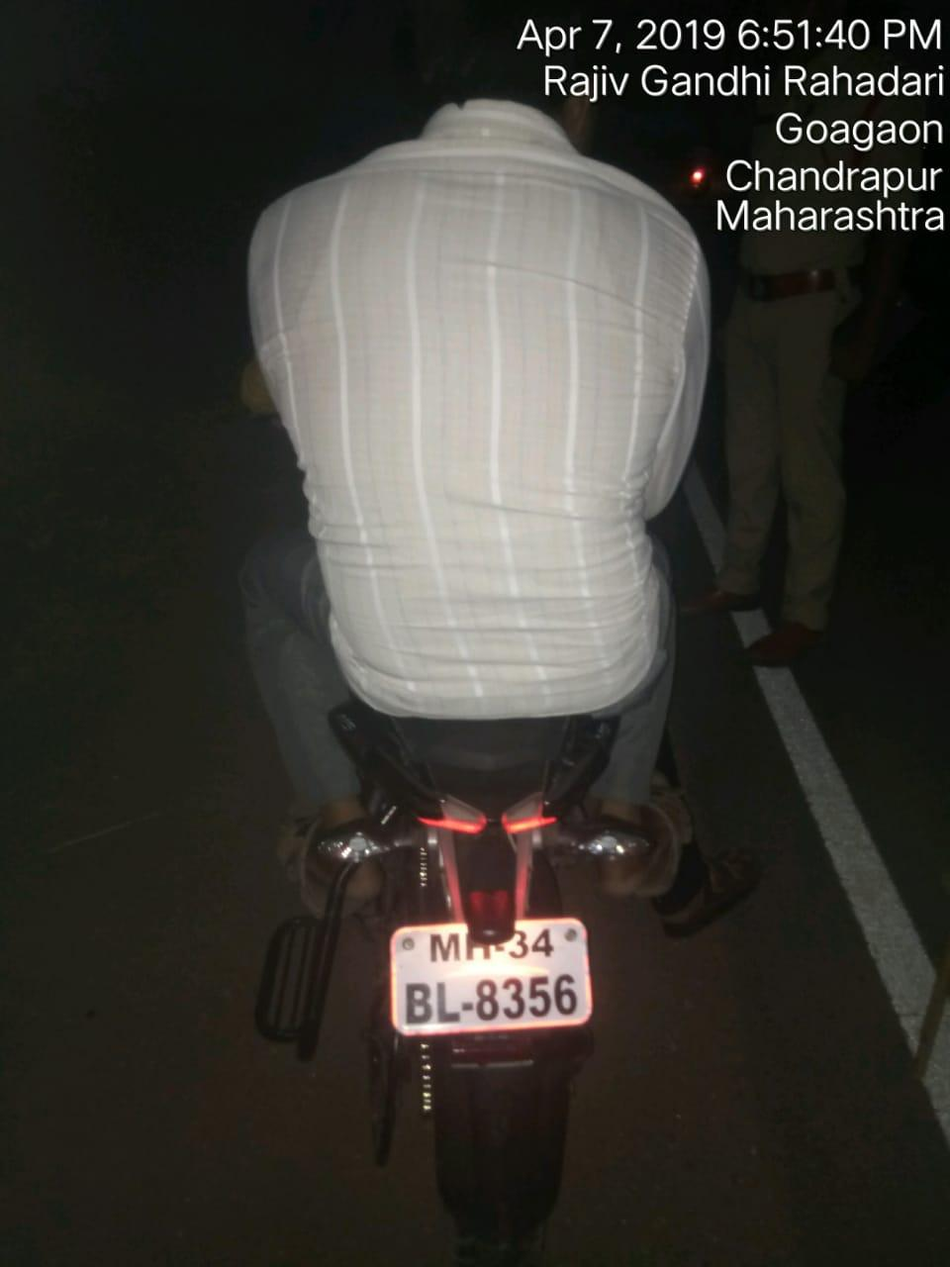plate: (367, 902, 656, 1061)
